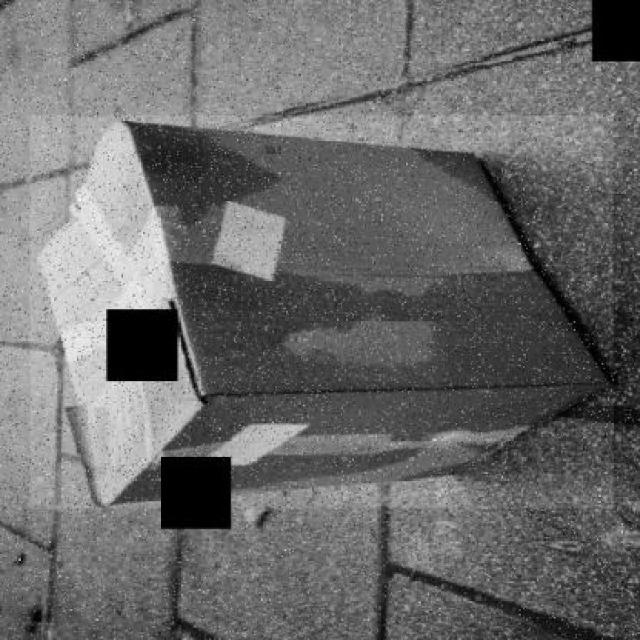box: (30, 114, 613, 508)
